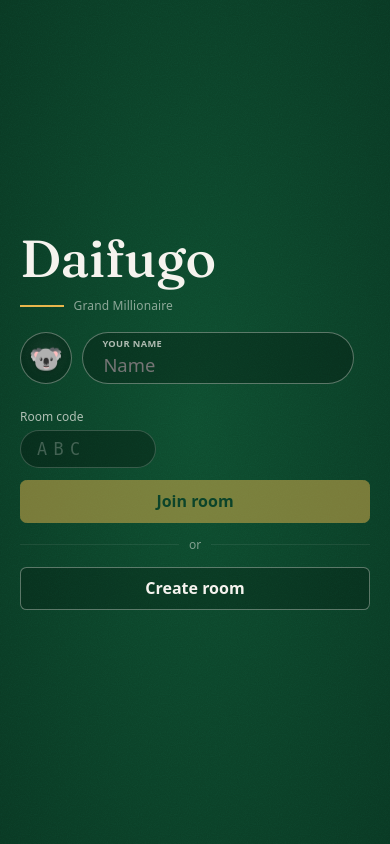
Test case: Lobby › drops a seat whose disconnect grace already queued its departure (§8.3)
Type "Will" into the field labelled "Your name". click: (218, 358)
box: [82,332,354,384]
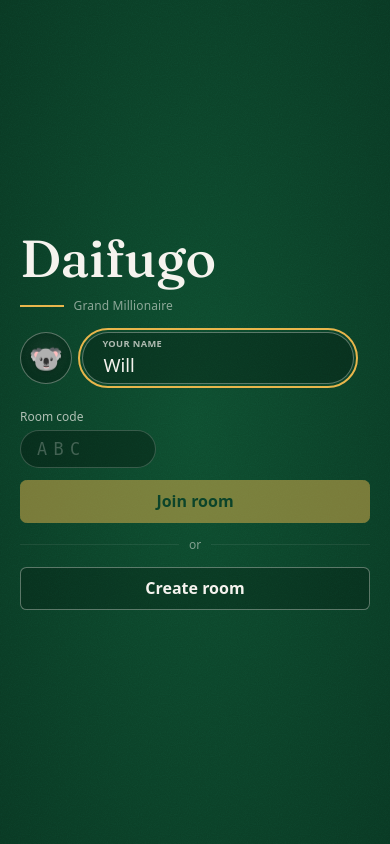
Type "ABC234" into the field labelled "Room code". click: (88, 449)
box: [20,430,156,468]
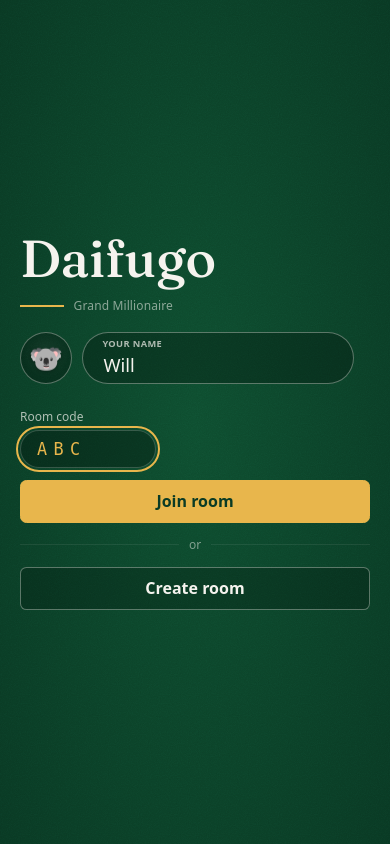
Click the button "Join room". click: click(195, 501)
box: [20,480,370,523]
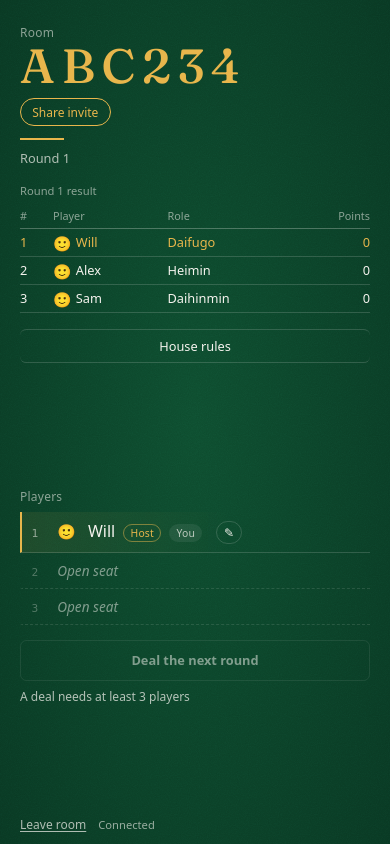
Result: the text "Open seat" is shown 2 times at [57,561,118,580]; [57,597,118,616]
Result: the text "A deal needs at least 3 players" is shown at [20,688,190,705]
